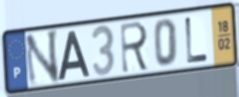0: (152, 17, 180, 70)
3: (90, 23, 118, 78)
A: (57, 29, 92, 83)
L: (184, 15, 210, 66)
N: (23, 27, 62, 89)
R: (119, 20, 151, 76)
